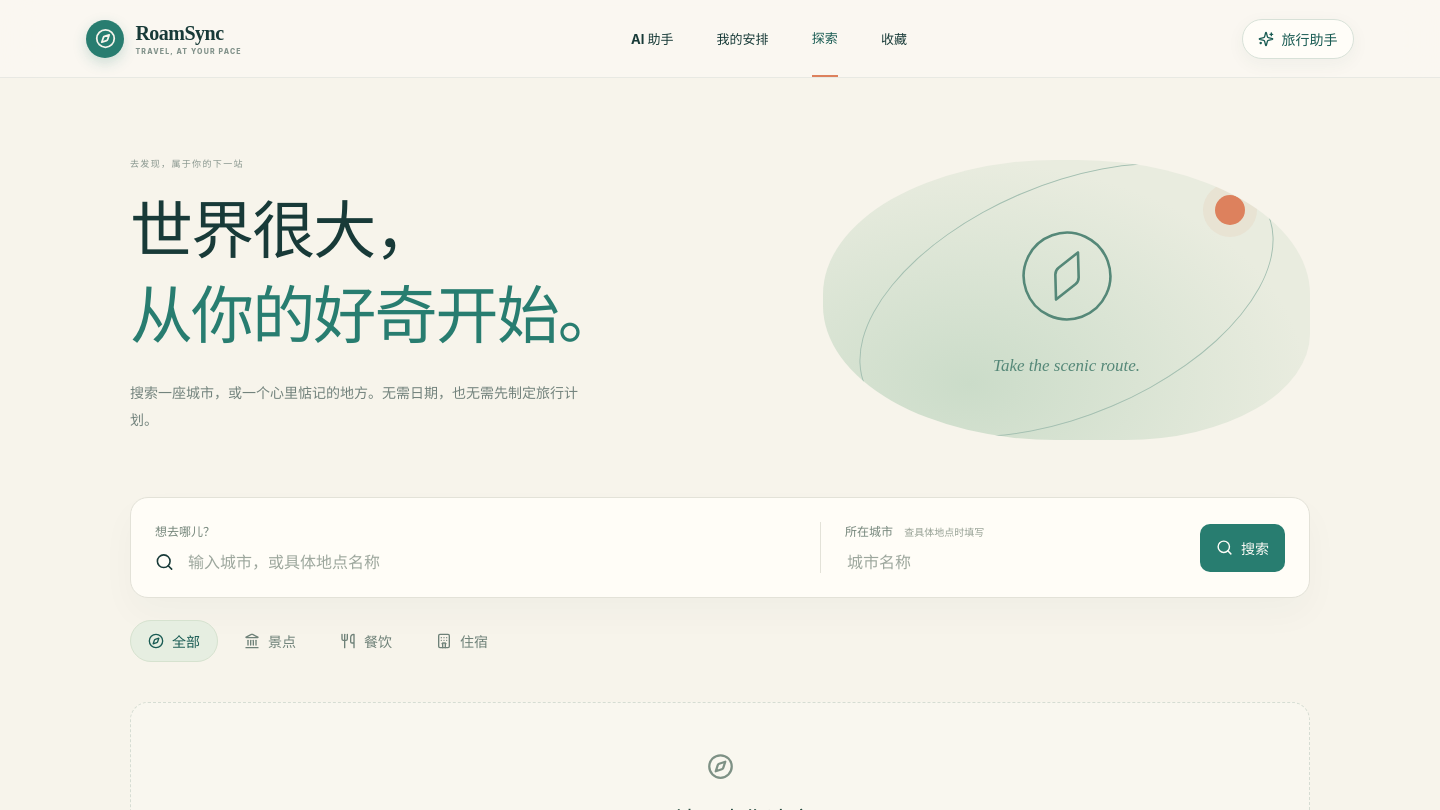
Test: keeps successful search in Explore and restores its URL on a fresh mount
The image size is (1440, 810).
Type "人民公园" into the field named "城市或地点".
click(491, 562); type("人民公园")  # box [186,551,796,573]
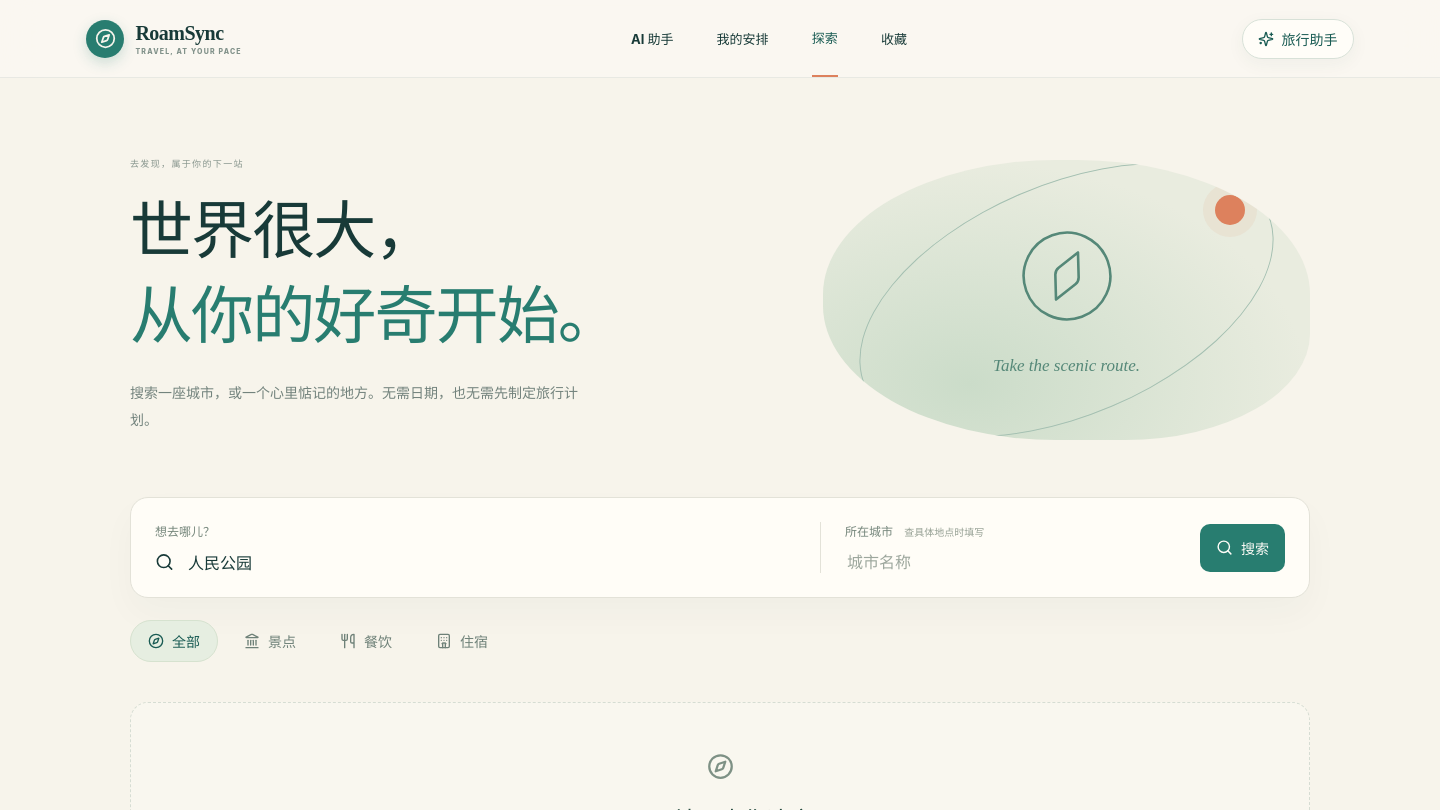
Type "成都" into the field labelled "所在城市".
click(1010, 562); type("成都")  # box [845,551,1176,573]
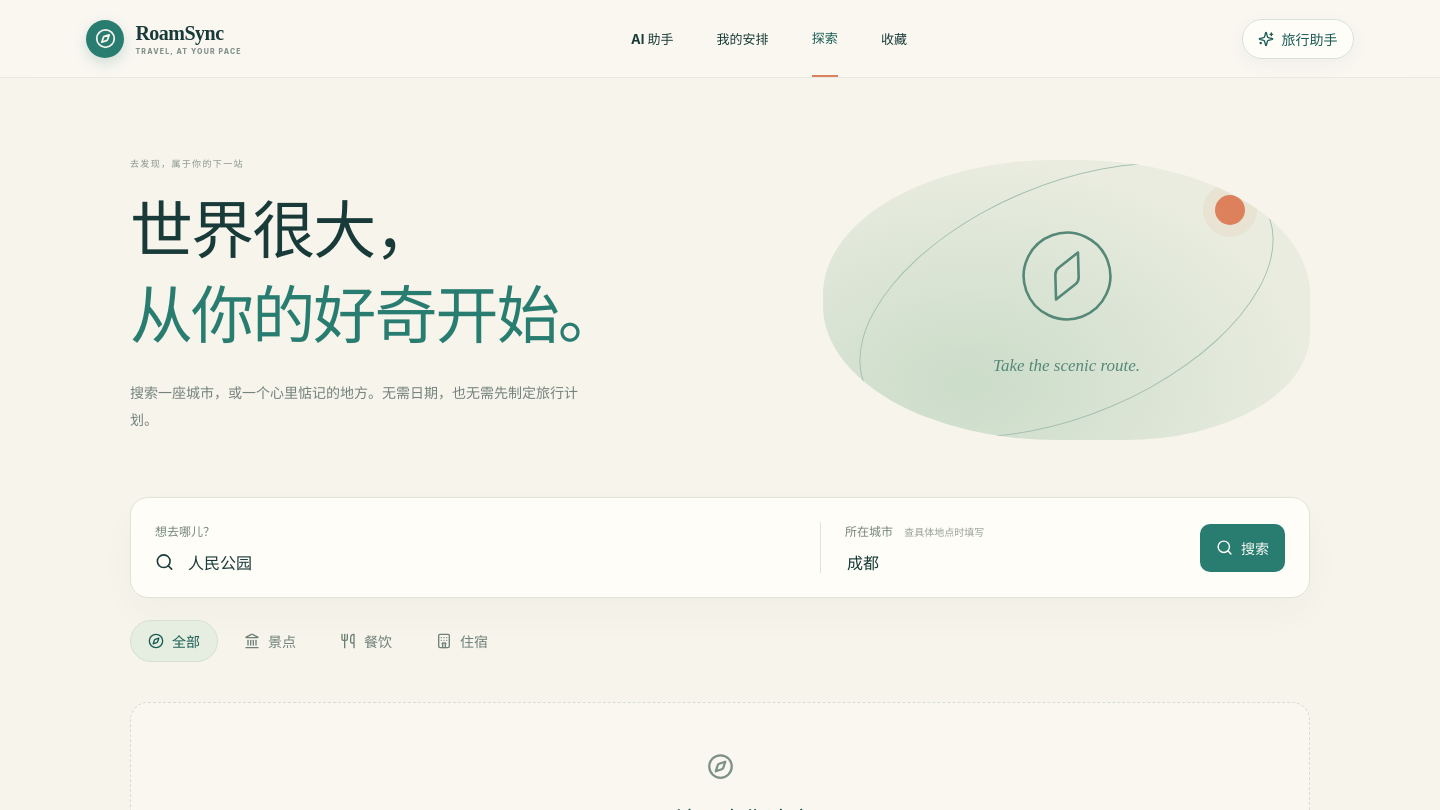
Click the button "搜索".
click(1242, 548)  # box [1200,524,1285,572]
(page scrolled)
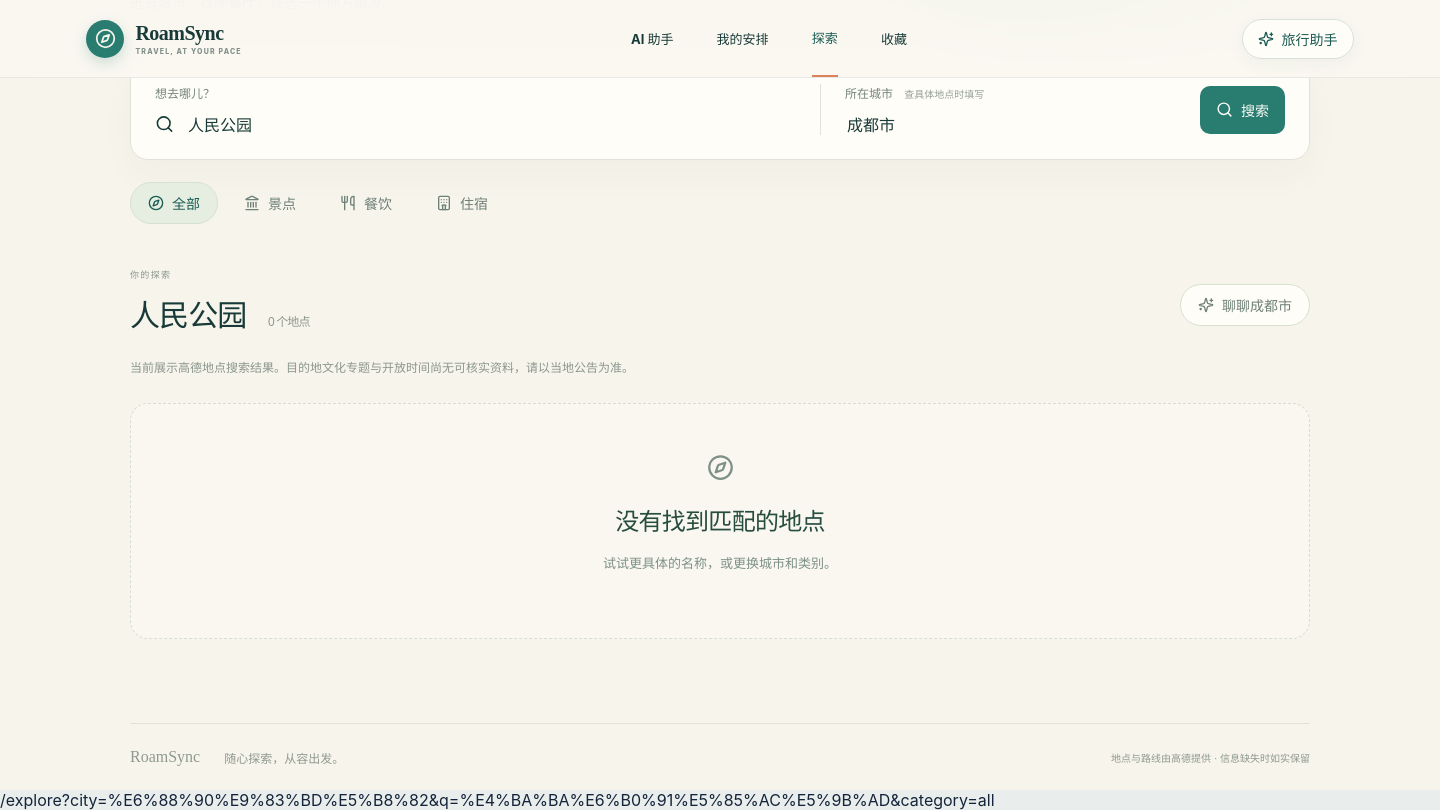
Now the text with test id "url" shows "/explore?city=", box [0,790,995,809]
